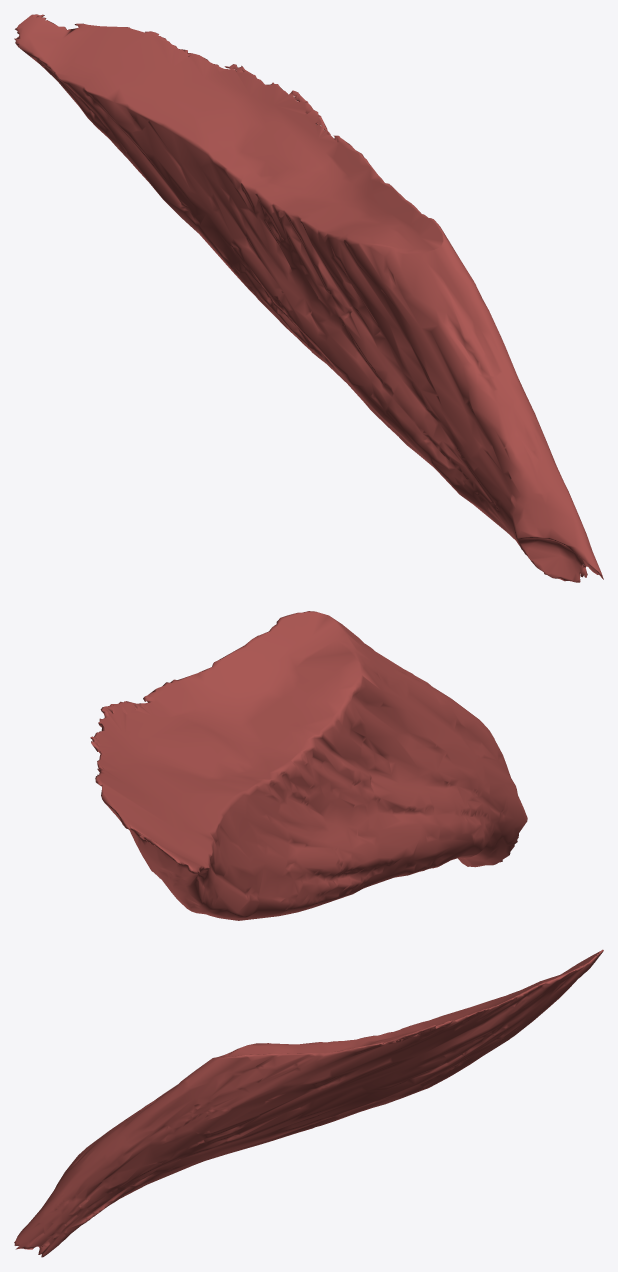
Rendered from FMA32535.glb.
3 renders of one model, top to bottom at view 1: azimuth 30°, elevation 25°; view 2: azimuth 150°, elevation 25°; view 3: azimuth 270°, elevation 25°, orthographic. The views are drawn at different scales.
Parts seen in each view (by area): view 1: FMA32535; view 2: FMA32535; view 3: FMA32535.
Part boxes in pixels (bbox=[...]): FMA32535: bbox=[14, 14, 603, 582]; FMA32535: bbox=[90, 611, 527, 920]; FMA32535: bbox=[14, 949, 603, 1257].
Bounding box in the file's own units: 0.014 × 0.0222 × 0.0481.
